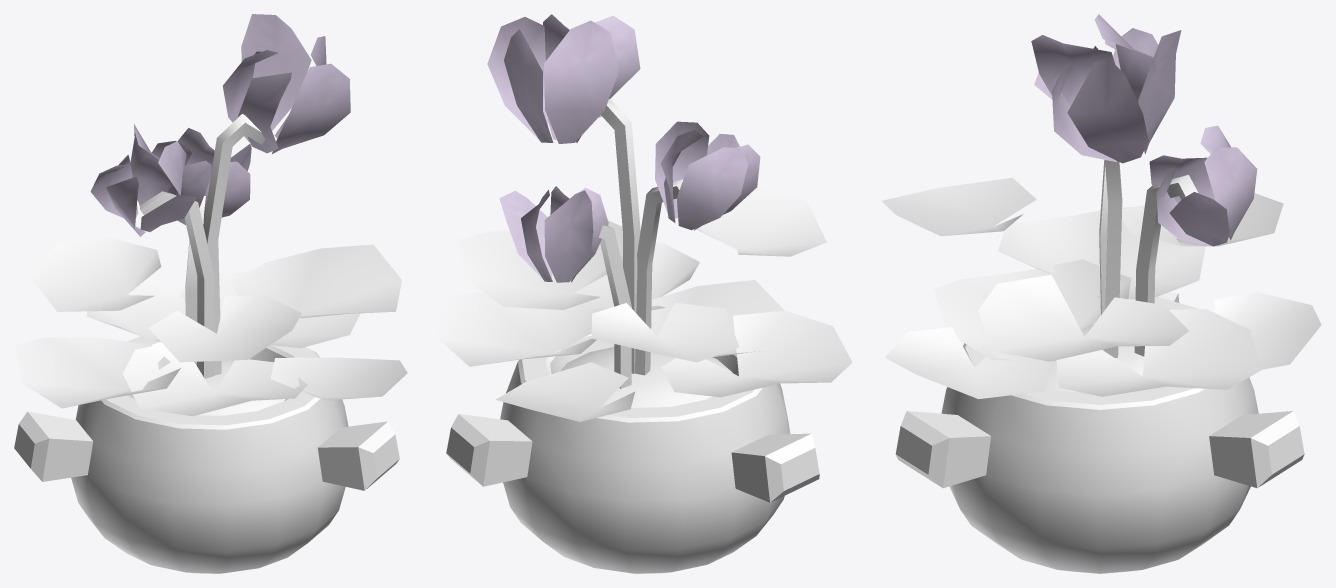
Rendered from SM_Plant_Cyclamen.fbx.
3 views of the same model, side by side, from view 1: azimuth 30°, elevation 25°; view 2: azimuth 150°, elevation 25°; view 3: azimuth 270°, elevation 25° (orthographic). The views are drawn at different scales.
Visible parts, largest first — view 1: Cyclamen; view 2: Cyclamen; view 3: Cyclamen.
Part boxes in pixels (bbox=[...]): Cyclamen: bbox=[14, 14, 407, 573]; Cyclamen: bbox=[436, 14, 852, 573]; Cyclamen: bbox=[882, 14, 1321, 573].
Bounding box in the file's own units: 66.44 × 88.44 × 62.93.
